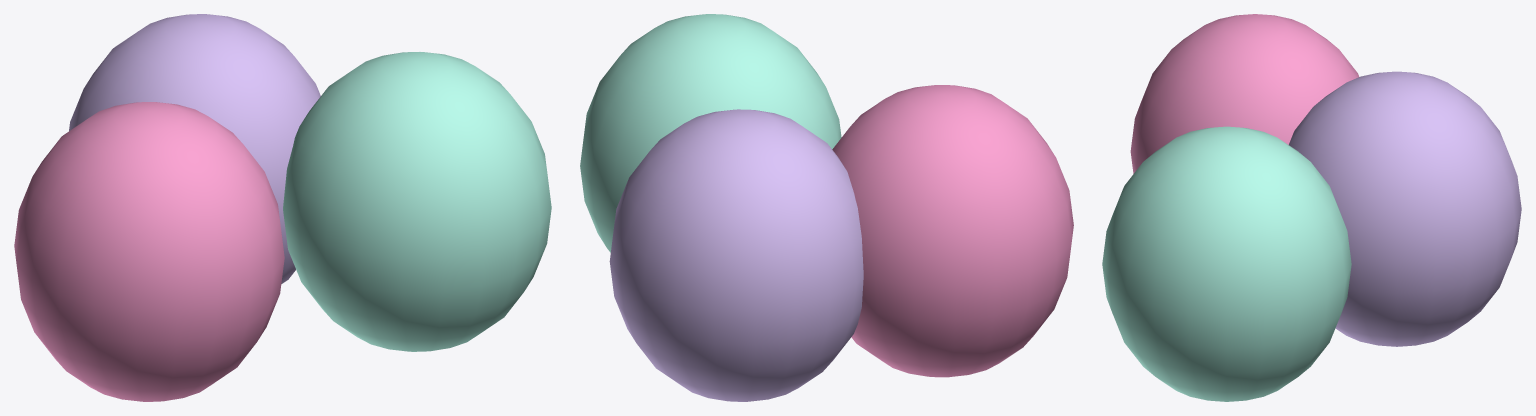
File: st_candy_gum.glb
3 renders of one model, left to right at view 1: azimuth 30°, elevation 25°; view 2: azimuth 150°, elevation 25°; view 3: azimuth 270°, elevation 25°, orthographic. The views are drawn at different scales.
Visible parts, largest first — view 1: Gumdrop_Cluster; view 2: Gumdrop_Cluster; view 3: Gumdrop_Cluster.
Boxes of the visible parts, x1,y1,x2,y2 form: Gumdrop_Cluster: (14,14,551,401); Gumdrop_Cluster: (580,14,1073,401); Gumdrop_Cluster: (1102,14,1521,401).
Bounding box in the file's own units: 0.91 × 0.5 × 0.74.
